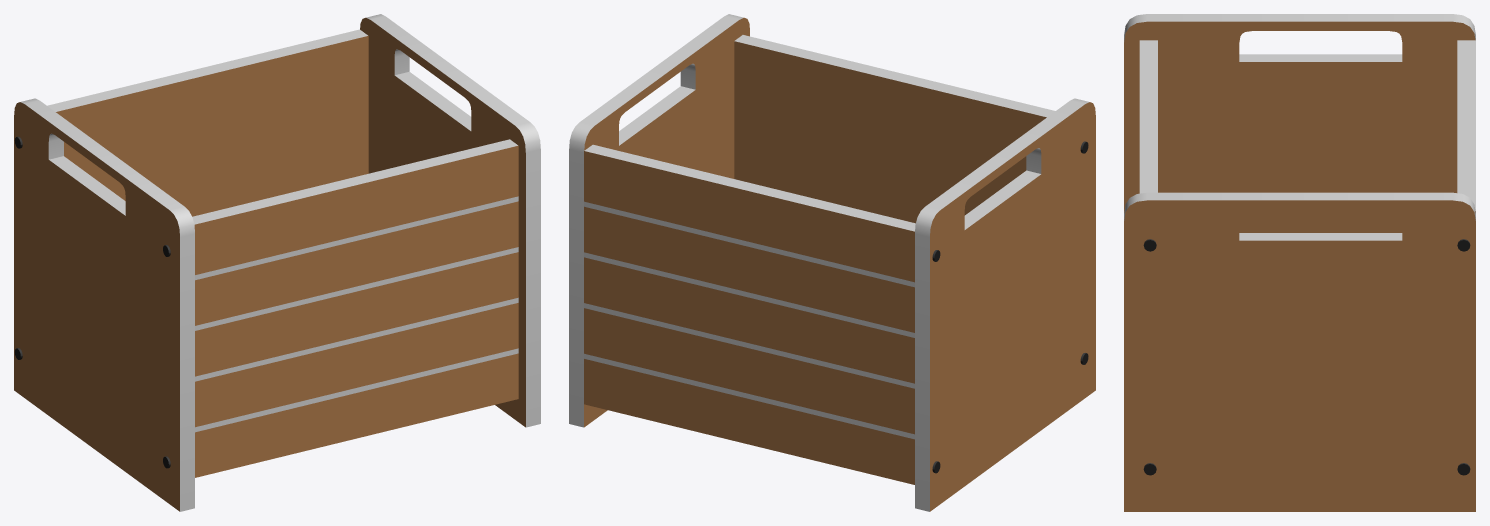
The model's file is Caja-5.FBX.
3 renders of one model, left to right at view 1: azimuth 30°, elevation 25°; view 2: azimuth 150°, elevation 25°; view 3: azimuth 270°, elevation 25°, orthographic. The views are drawn at different scales.
Parts seen in each view (by area): view 1: Caja004; view 2: Caja004; view 3: Caja004.
Boxes of the visible parts, x1,y1,x2,y2 form: Caja004: (14, 14, 540, 511); Caja004: (569, 14, 1095, 511); Caja004: (1124, 14, 1475, 511).
Size of the model in its own units: 68.83 by 54.3 by 53.06.
